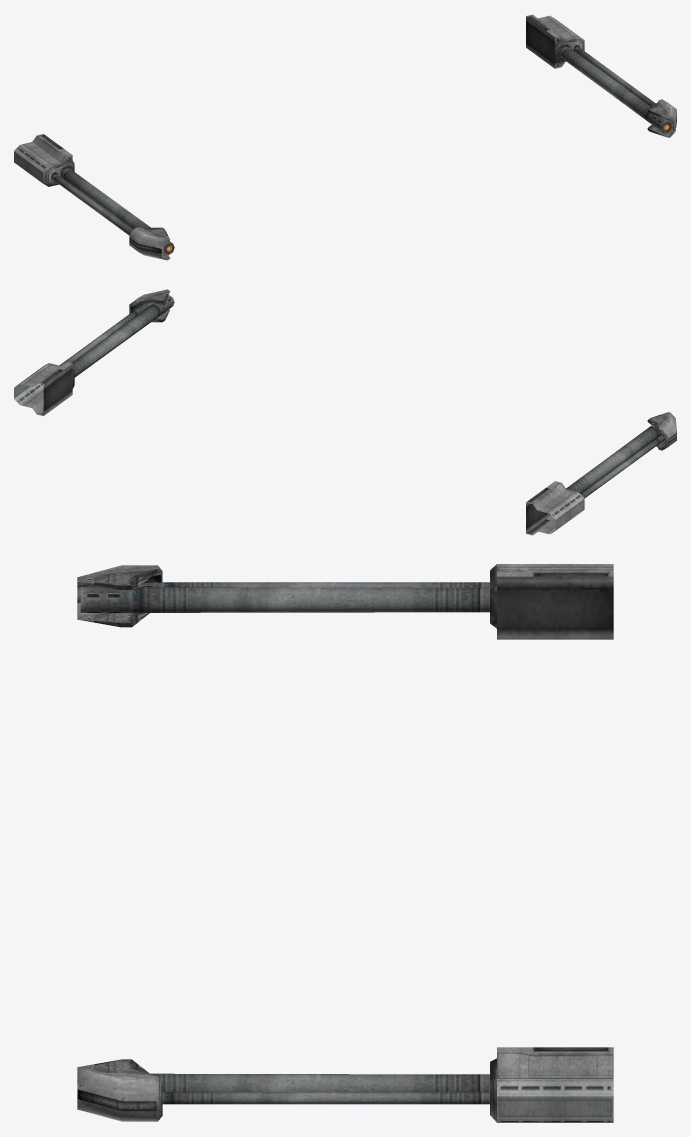
Rendered from black_sun_fighter_light_weapon_s06_l0.fbx.
The picture shows the model from 3 angles, top to bottom: view 1: azimuth 30°, elevation 25°; view 2: azimuth 150°, elevation 25°; view 3: azimuth 270°, elevation 25°; orthographic projection. The views are drawn at different scales.
Visible parts, largest first — view 1: mesh_node; view 2: mesh_node; view 3: mesh_node.
Boxes of the visible parts, x1,y1,x2,y2 form: mesh_node: (14,14,676,260); mesh_node: (14,289,676,535); mesh_node: (77,564,613,1122).
Bounding box in the file's own units: 11.66 × 0.6458 × 5.
